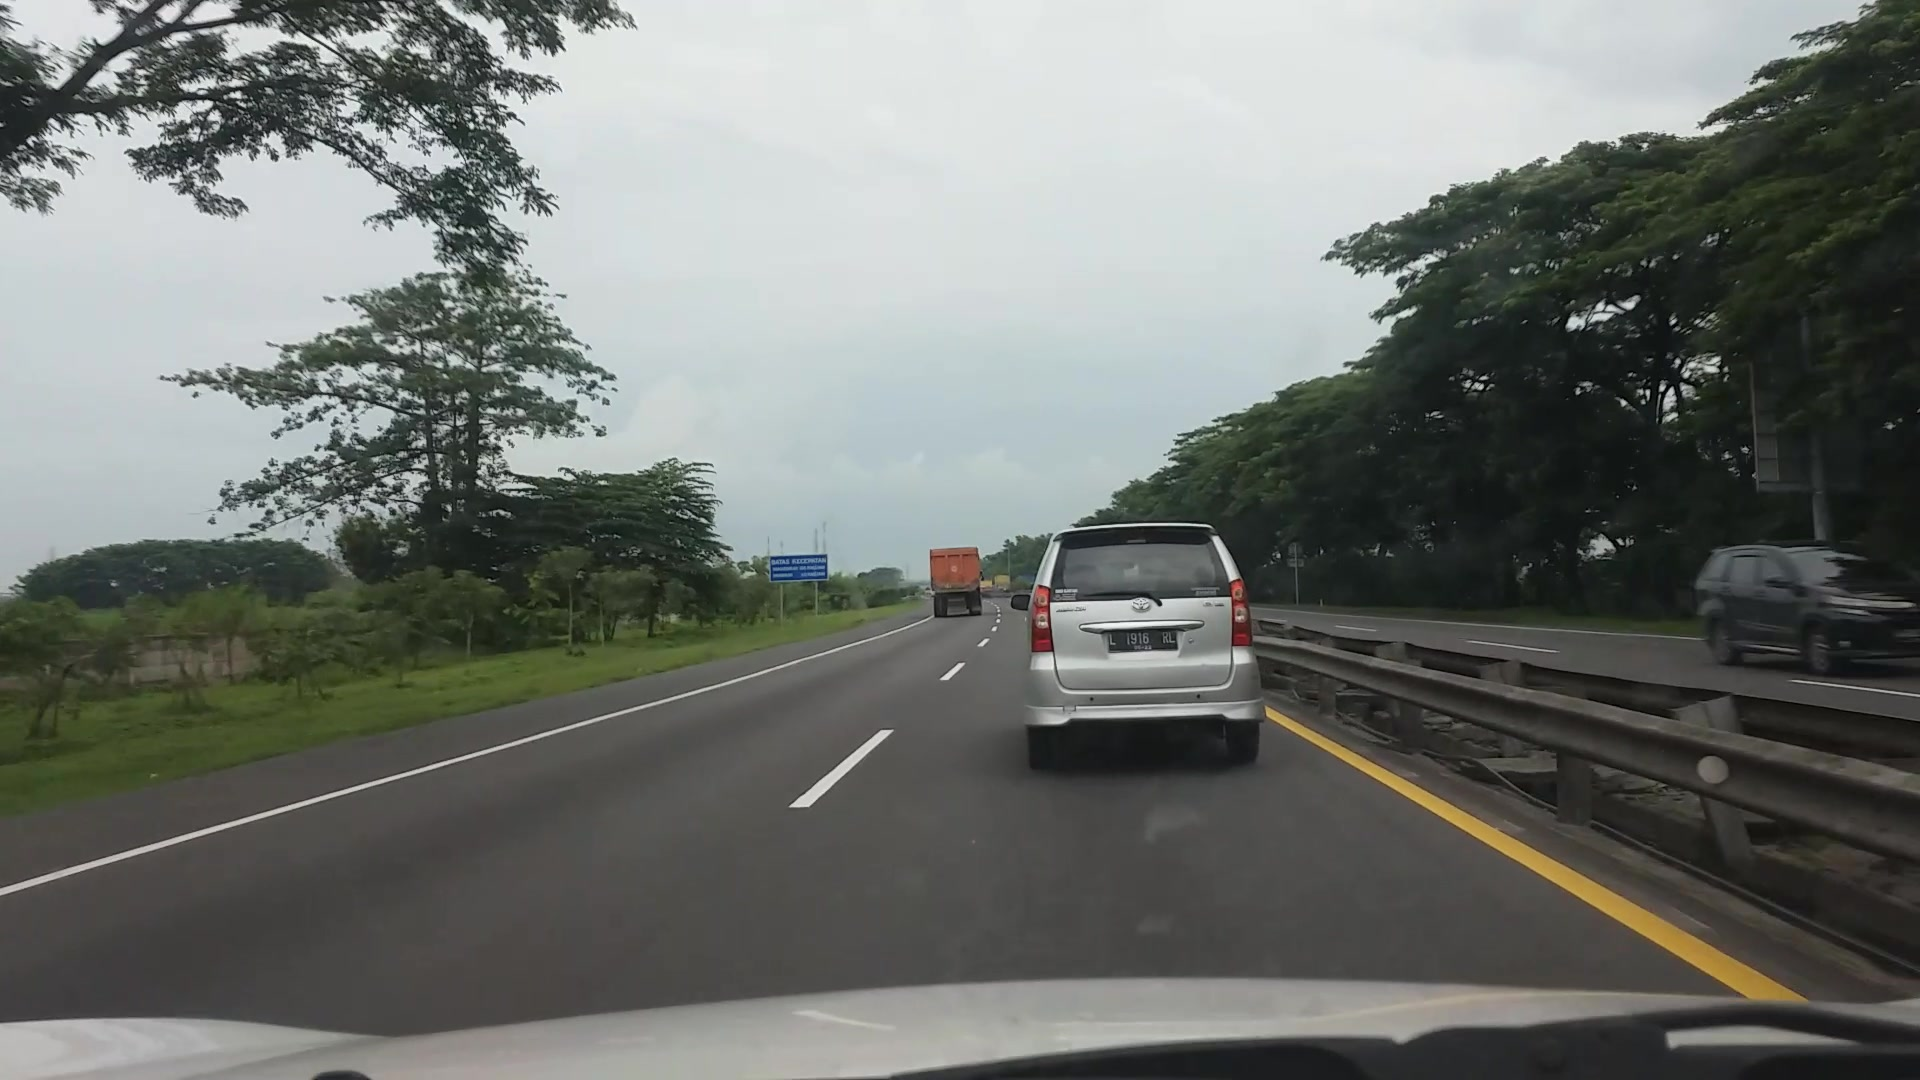plate_positive: (1108, 630, 1178, 651)
